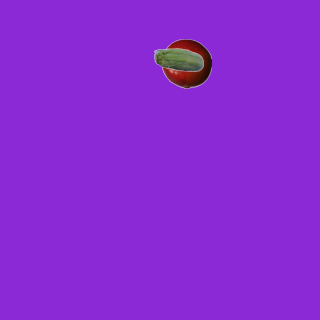Apple Braeburn: (161, 38, 211, 88)
Corn Husk: (153, 36, 203, 86)
